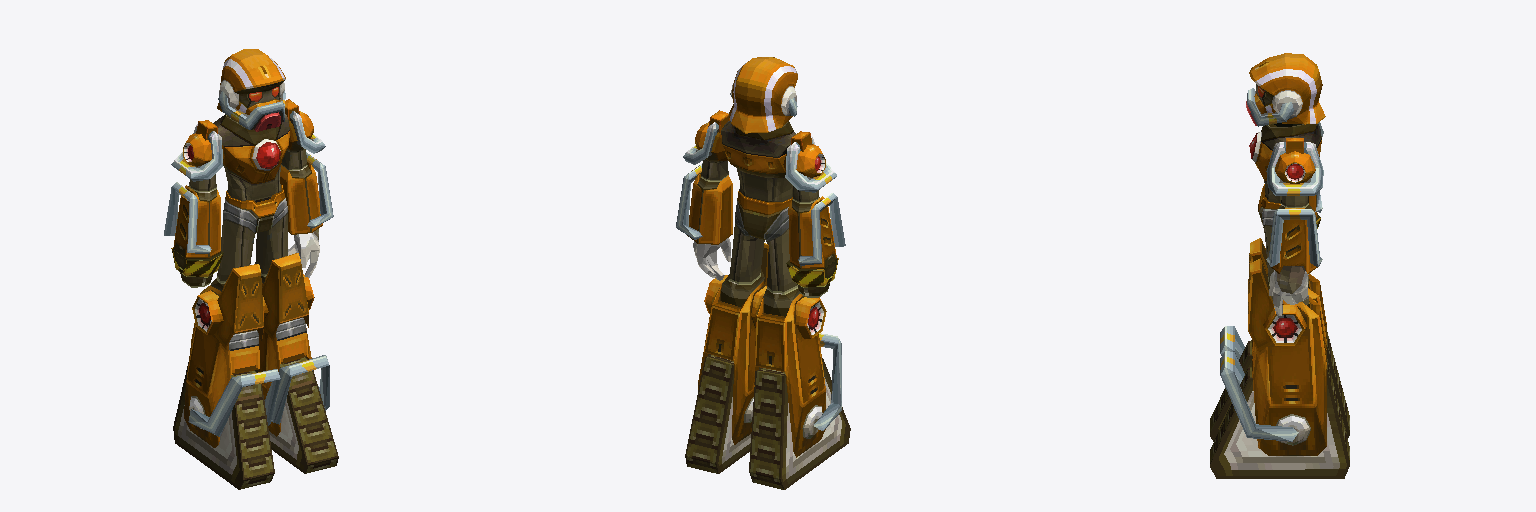
3 views of the same model, side by side, from view 1: azimuth 30°, elevation 25°; view 2: azimuth 150°, elevation 25°; view 3: azimuth 270°, elevation 25° (orthographic).
Parts seen in each view (by area): view 1: Rolleroid; view 2: Rolleroid; view 3: Rolleroid.
Boxes of the visible parts, x1,y1,x2,y2 form: Rolleroid: [164, 49, 338, 489]; Rolleroid: [676, 57, 850, 489]; Rolleroid: [1210, 53, 1349, 478].
Size of the model in its own units: 6.8 by 17.59 by 5.65.
1 materials, 1 textured.